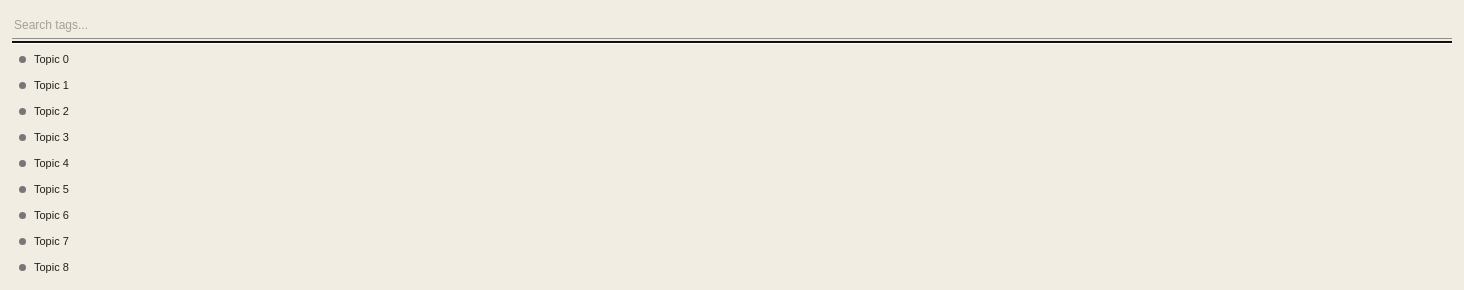
Test case: filters a large tag list through search
Step 1. Type "topic 42" into the search field labelled "Search tags" → (732, 26), box [12,12,1452,39]
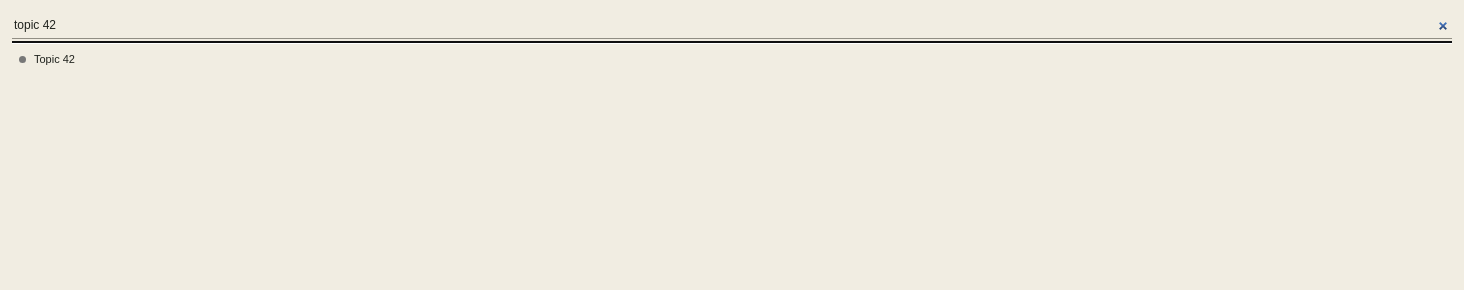
Expected: the number of options is 1, [12,47,1452,71]
